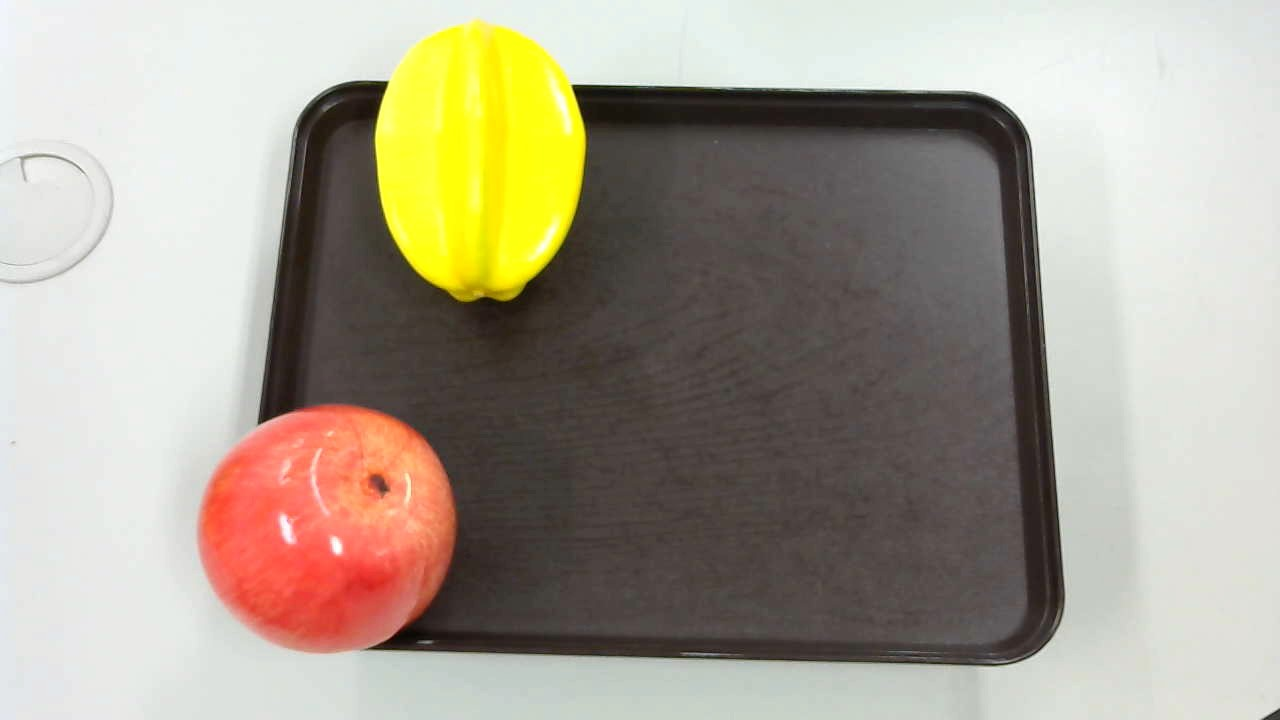red apple: (193, 402, 461, 661)
star fruit: (374, 17, 594, 315)
